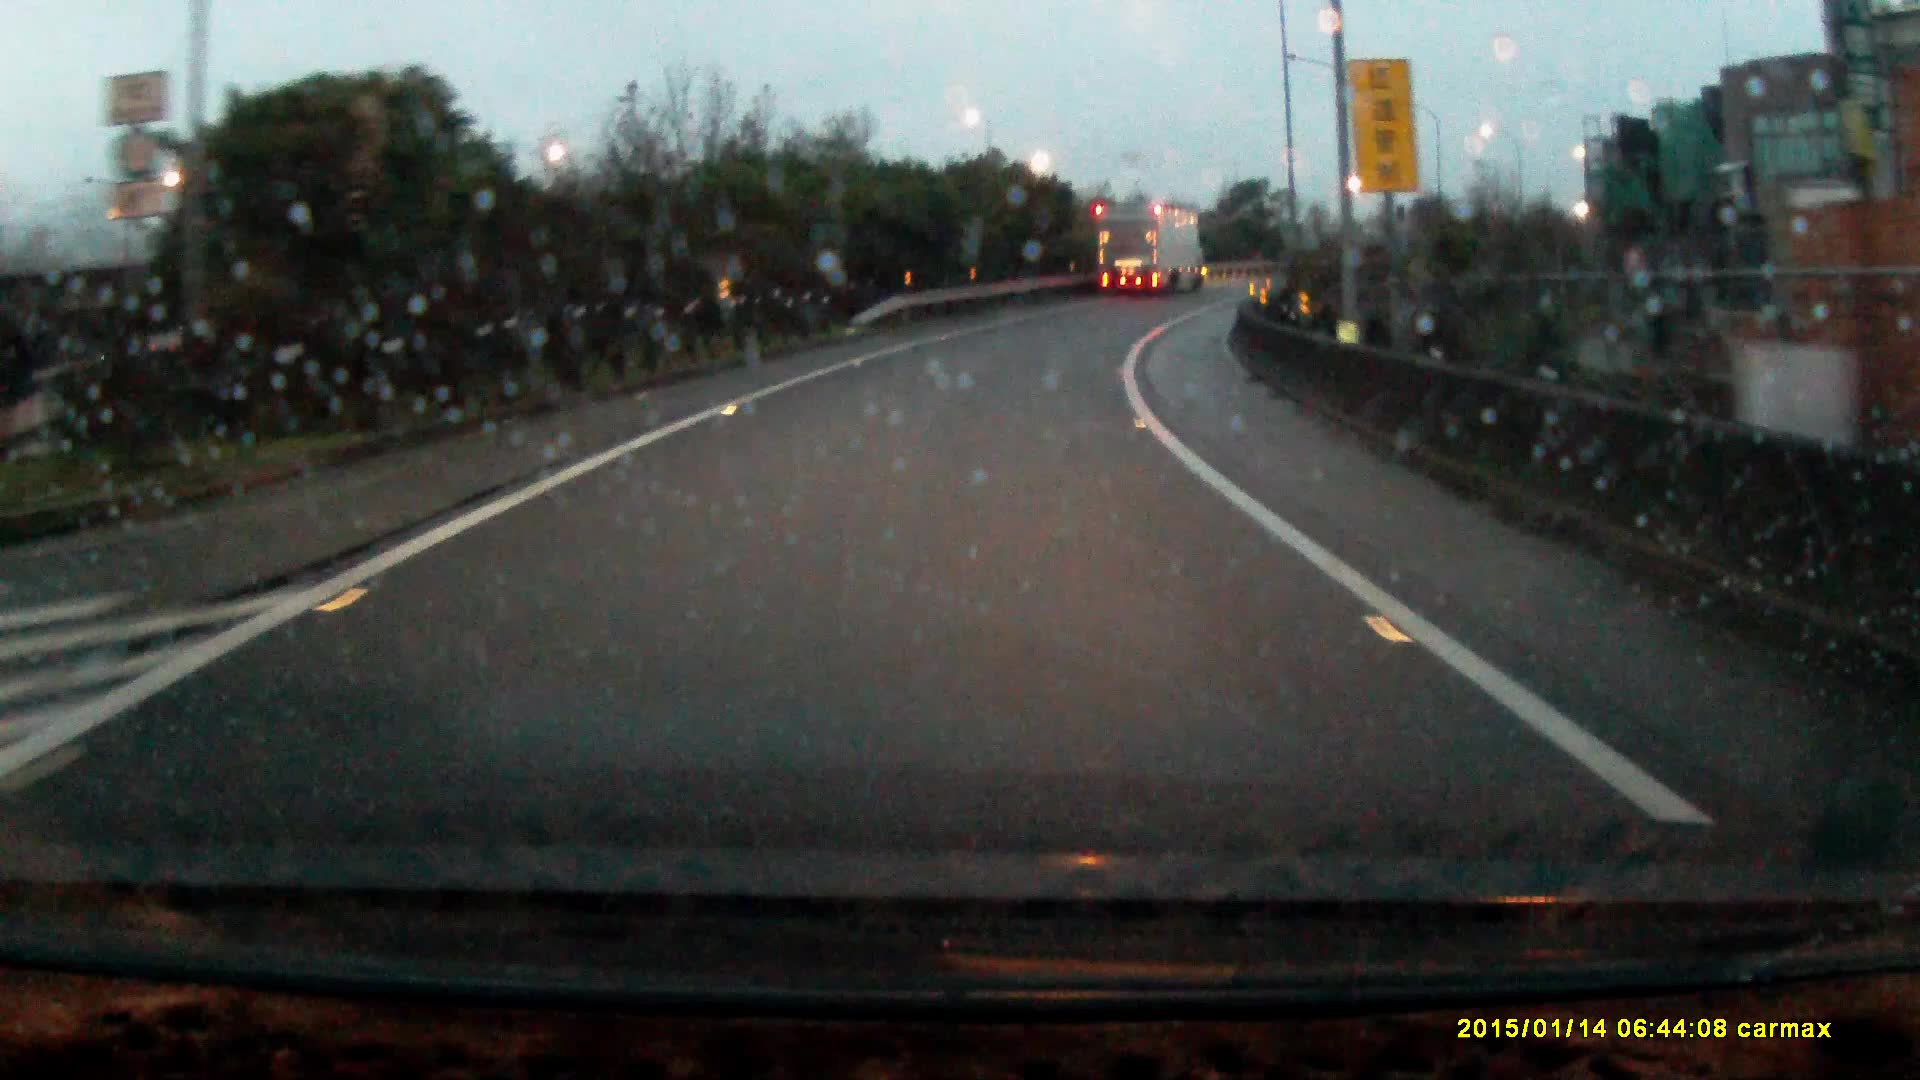vehicle: (1095, 200, 1207, 295)
